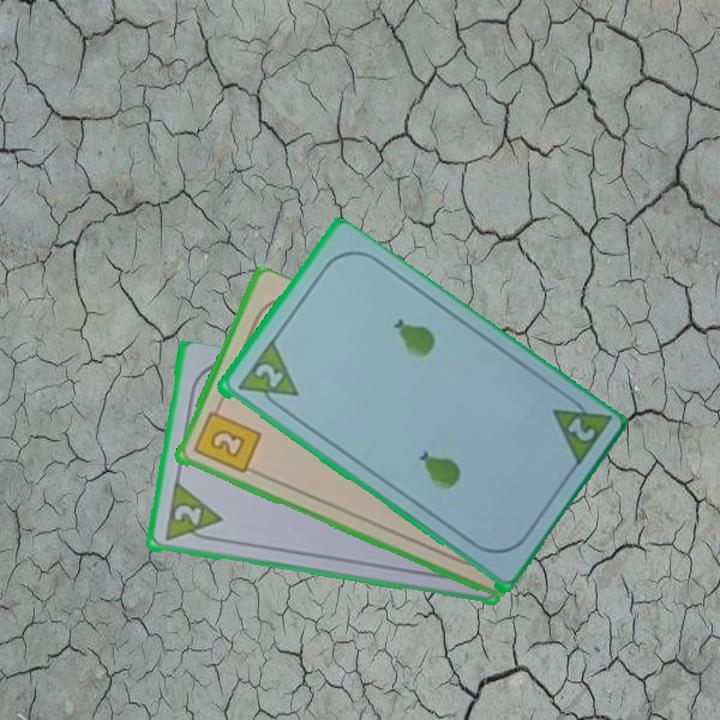2b: (189, 400, 263, 477)
2p: (547, 389, 613, 472), (251, 360, 286, 391), (170, 501, 204, 529)
